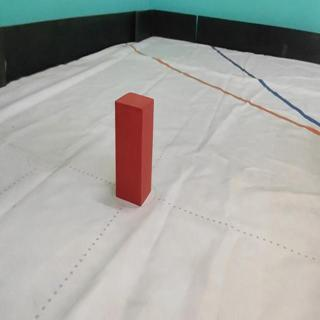redbox: (114, 91, 154, 206)
